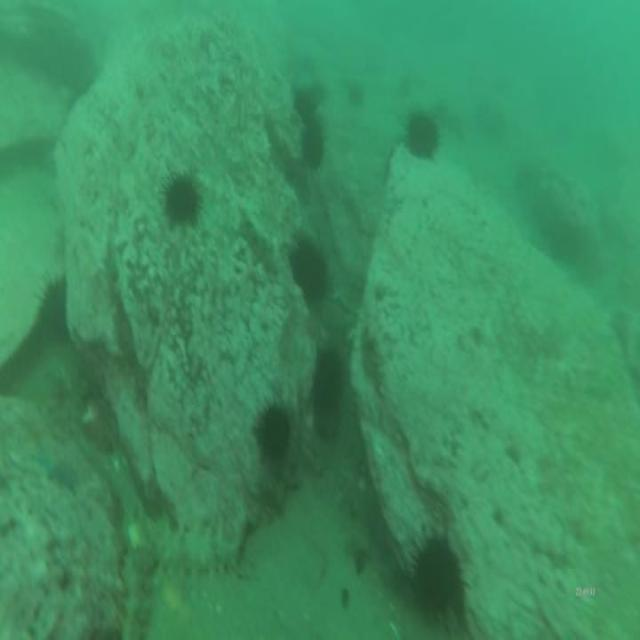echinus: (402, 520, 468, 635), (286, 232, 332, 310), (158, 168, 205, 237), (252, 393, 294, 468), (308, 343, 348, 417), (36, 270, 68, 351), (402, 104, 442, 166), (300, 114, 327, 177), (292, 82, 320, 123), (346, 78, 367, 112)
holothurian: (142, 511, 245, 586), (114, 545, 153, 640)
